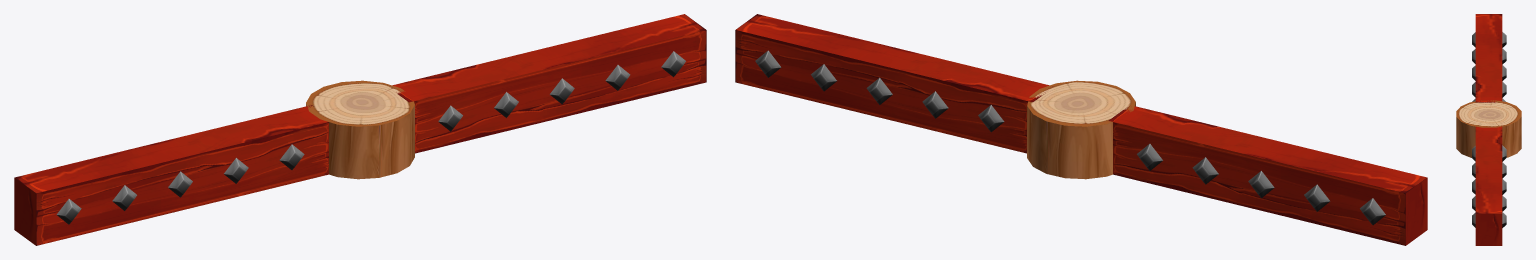
Rendered from two_blade_red_03.fbx.
The picture shows the model from 3 angles, left to right: view 1: azimuth 30°, elevation 25°; view 2: azimuth 150°, elevation 25°; view 3: azimuth 270°, elevation 25°; orthographic projection. The views are drawn at different scales.
Parts seen in each view (by area): view 1: Blade_77, Blade_78, wood_center_26; view 2: Blade_77, Blade_78, wood_center_26; view 3: Blade_78, Blade_77, wood_center_26.
Part boxes in pixels (x1,y1,x2,y2): Blade_77: (14,105,328,245); Blade_78: (392,14,706,153); wood_center_26: (306,80,414,179); Blade_77: (1108,106,1427,245); Blade_78: (735,14,1053,153); wood_center_26: (1027,80,1135,179); Blade_78: (1472,126,1506,245); Blade_77: (1472,14,1506,102); wood_center_26: (1456,100,1521,157).
Bounding box in the file's own units: 534 × 40 × 74.15.
